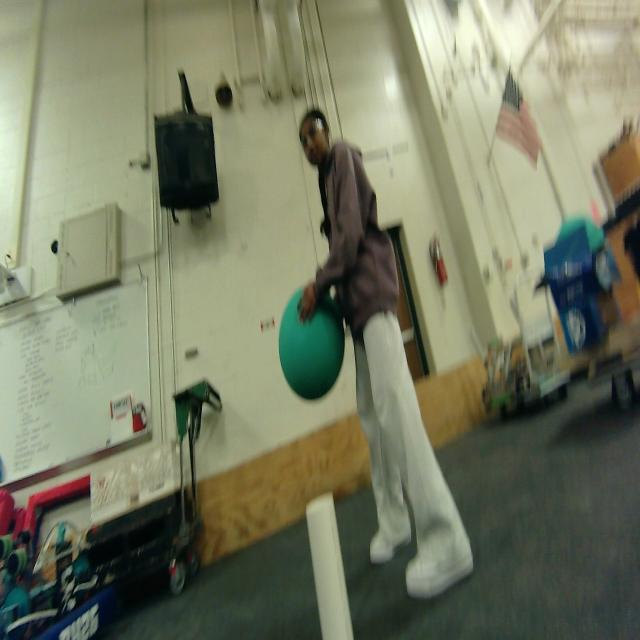algae: (276, 278, 347, 410)
coral: (298, 485, 364, 640)
